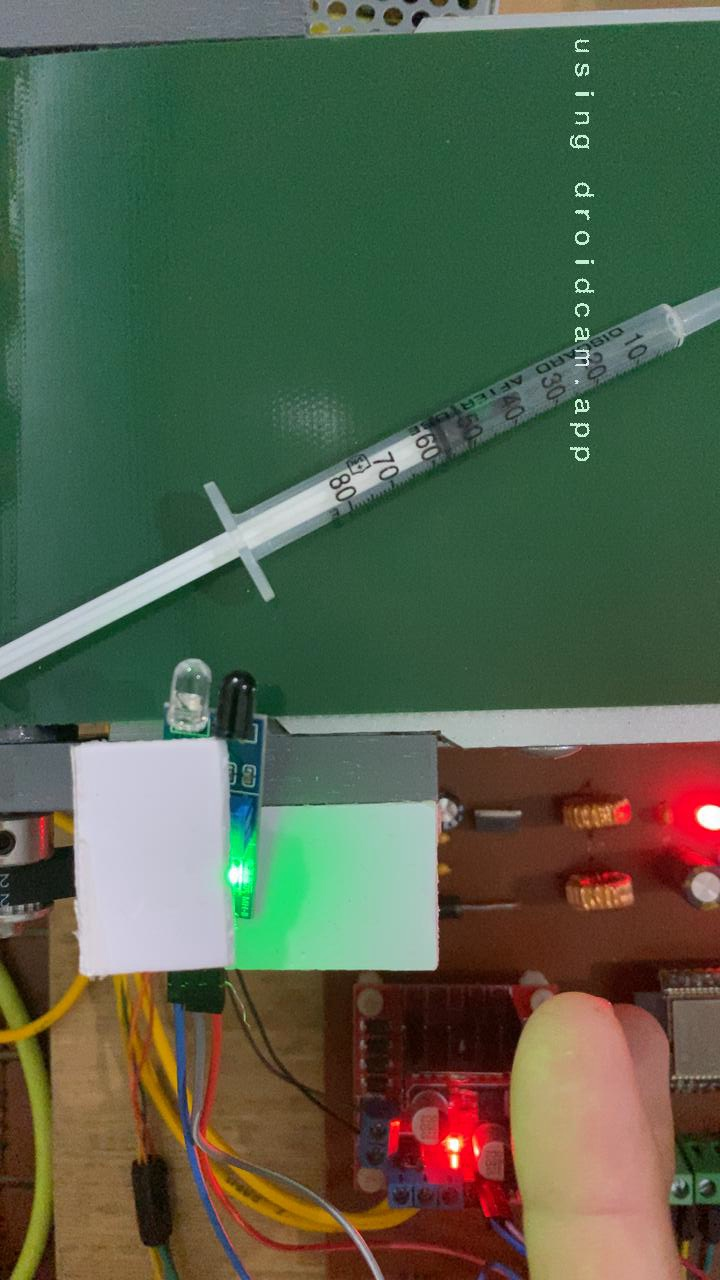syringe: (0, 413, 482, 687)
